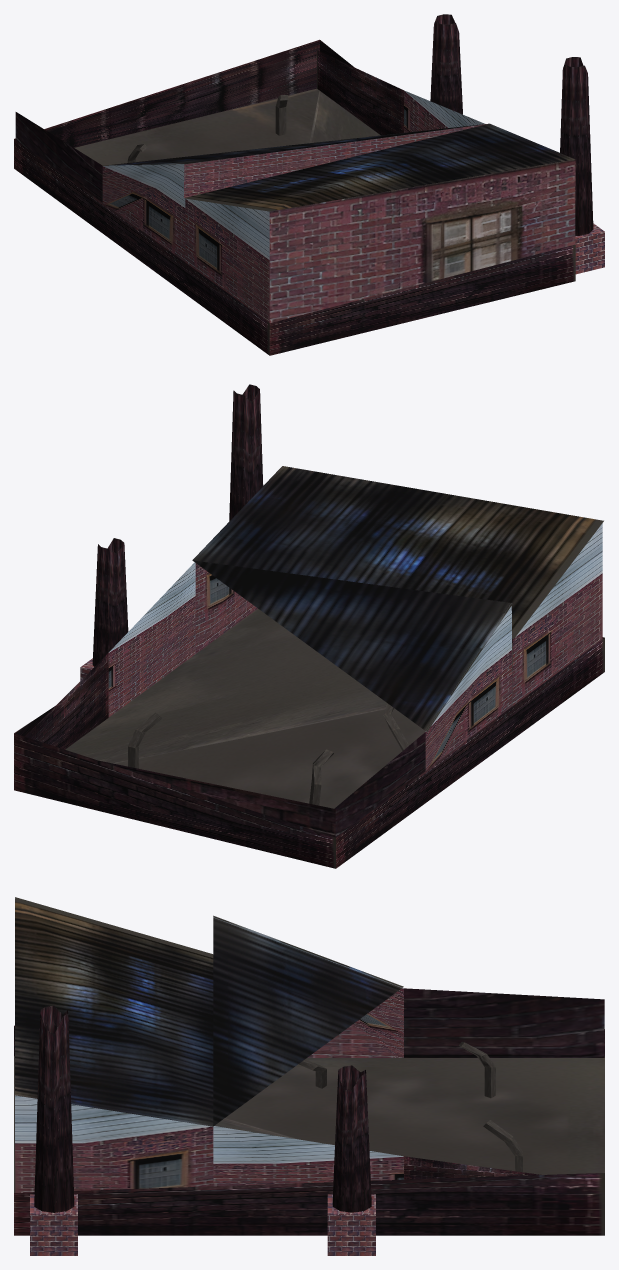
The model's file is factoryburn2.gltf.
3 views of the same model, one above another, from view 1: azimuth 30°, elevation 25°; view 2: azimuth 150°, elevation 25°; view 3: azimuth 270°, elevation 25° (orthographic). The views are drawn at different scales.
Visible parts, largest first — view 1: factoryburn2_atomic0; view 2: factoryburn2_atomic0; view 3: factoryburn2_atomic0.
Part boxes in pixels (left/top/right/bottom): factoryburn2_atomic0: left=14, top=14, right=604, bottom=355; factoryburn2_atomic0: left=14, top=384, right=604, bottom=868; factoryburn2_atomic0: left=14, top=897, right=604, bottom=1255.
Size of the model in its own units: 96.83 by 54.77 by 125.
Materials: 4 (4 with a texture image).
